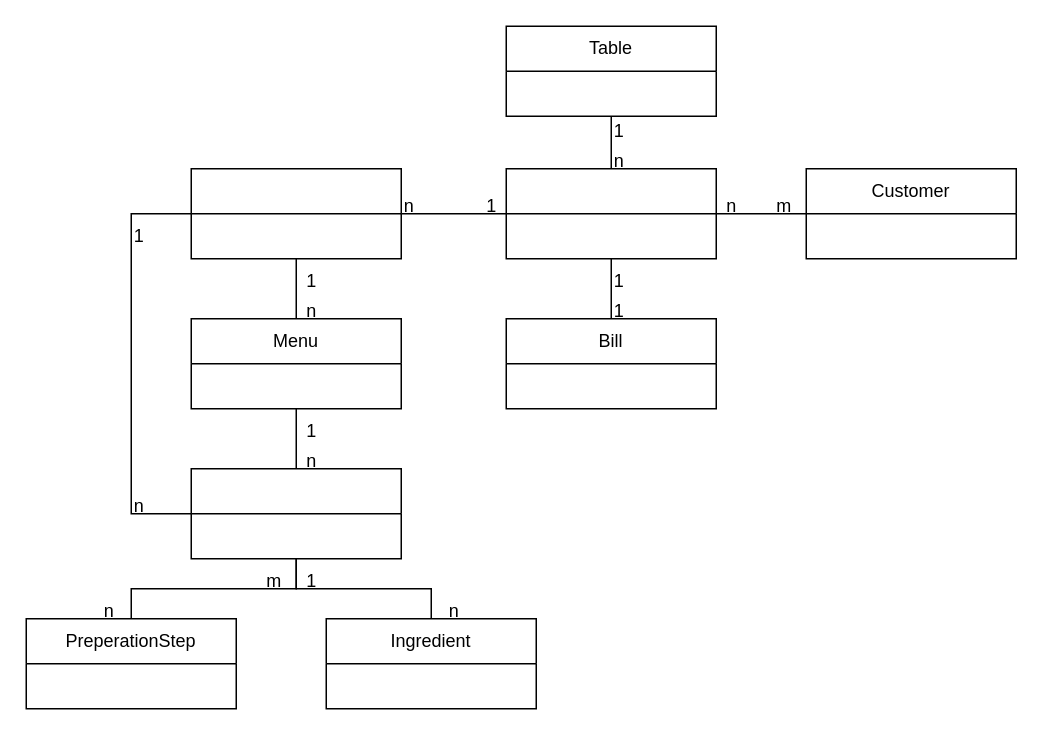
Image size: 1043x735. Some labels were removed from this diagram. Here are the shapes that lost their labels. From the top down, the centre of each, then its label:
the point at 295,213: Order
the point at 610,213: Visit
the point at 295,513: Dish
